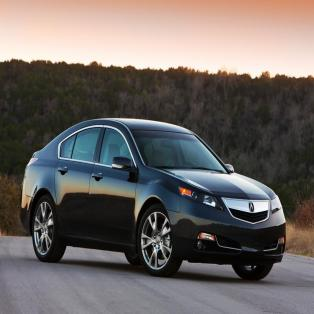Auto: (18, 115, 288, 279)
